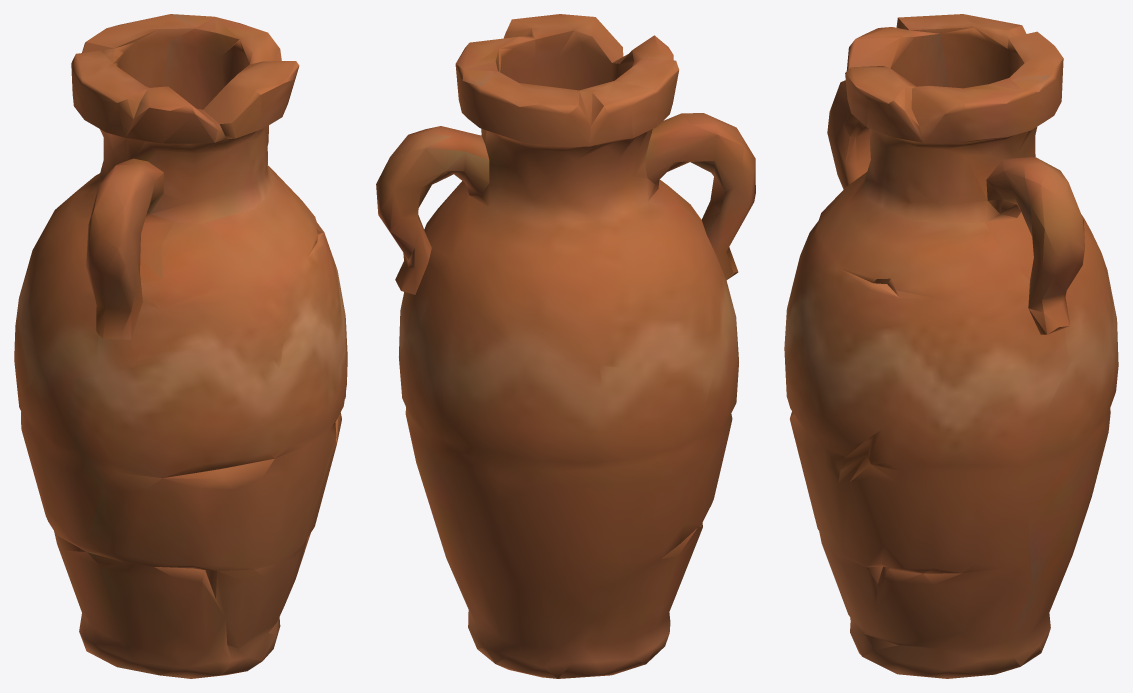
The model's file is jarron_alto_1500.glb.
The picture shows the model from 3 angles, left to right: view 1: azimuth 30°, elevation 25°; view 2: azimuth 150°, elevation 25°; view 3: azimuth 270°, elevation 25°; orthographic projection.
Visible parts, largest first — view 1: jarron_alto_malla; view 2: jarron_alto_malla; view 3: jarron_alto_malla.
Part boxes in pixels (<box>): jarron_alto_malla: <box>14,14,347,678</box>; jarron_alto_malla: <box>376,14,755,678</box>; jarron_alto_malla: <box>784,14,1118,678</box>.
Bounding box in the file's own units: 0.1182 × 0.2275 × 0.1166.
1 material, 1 textured.
